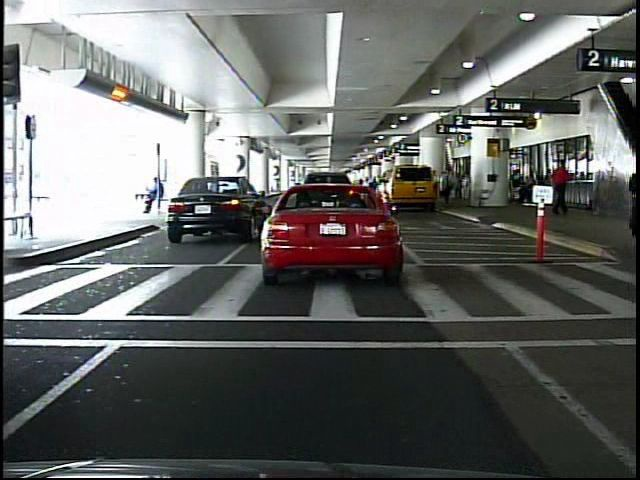person: (621, 154, 640, 269), (553, 158, 570, 216), (429, 166, 442, 203)
